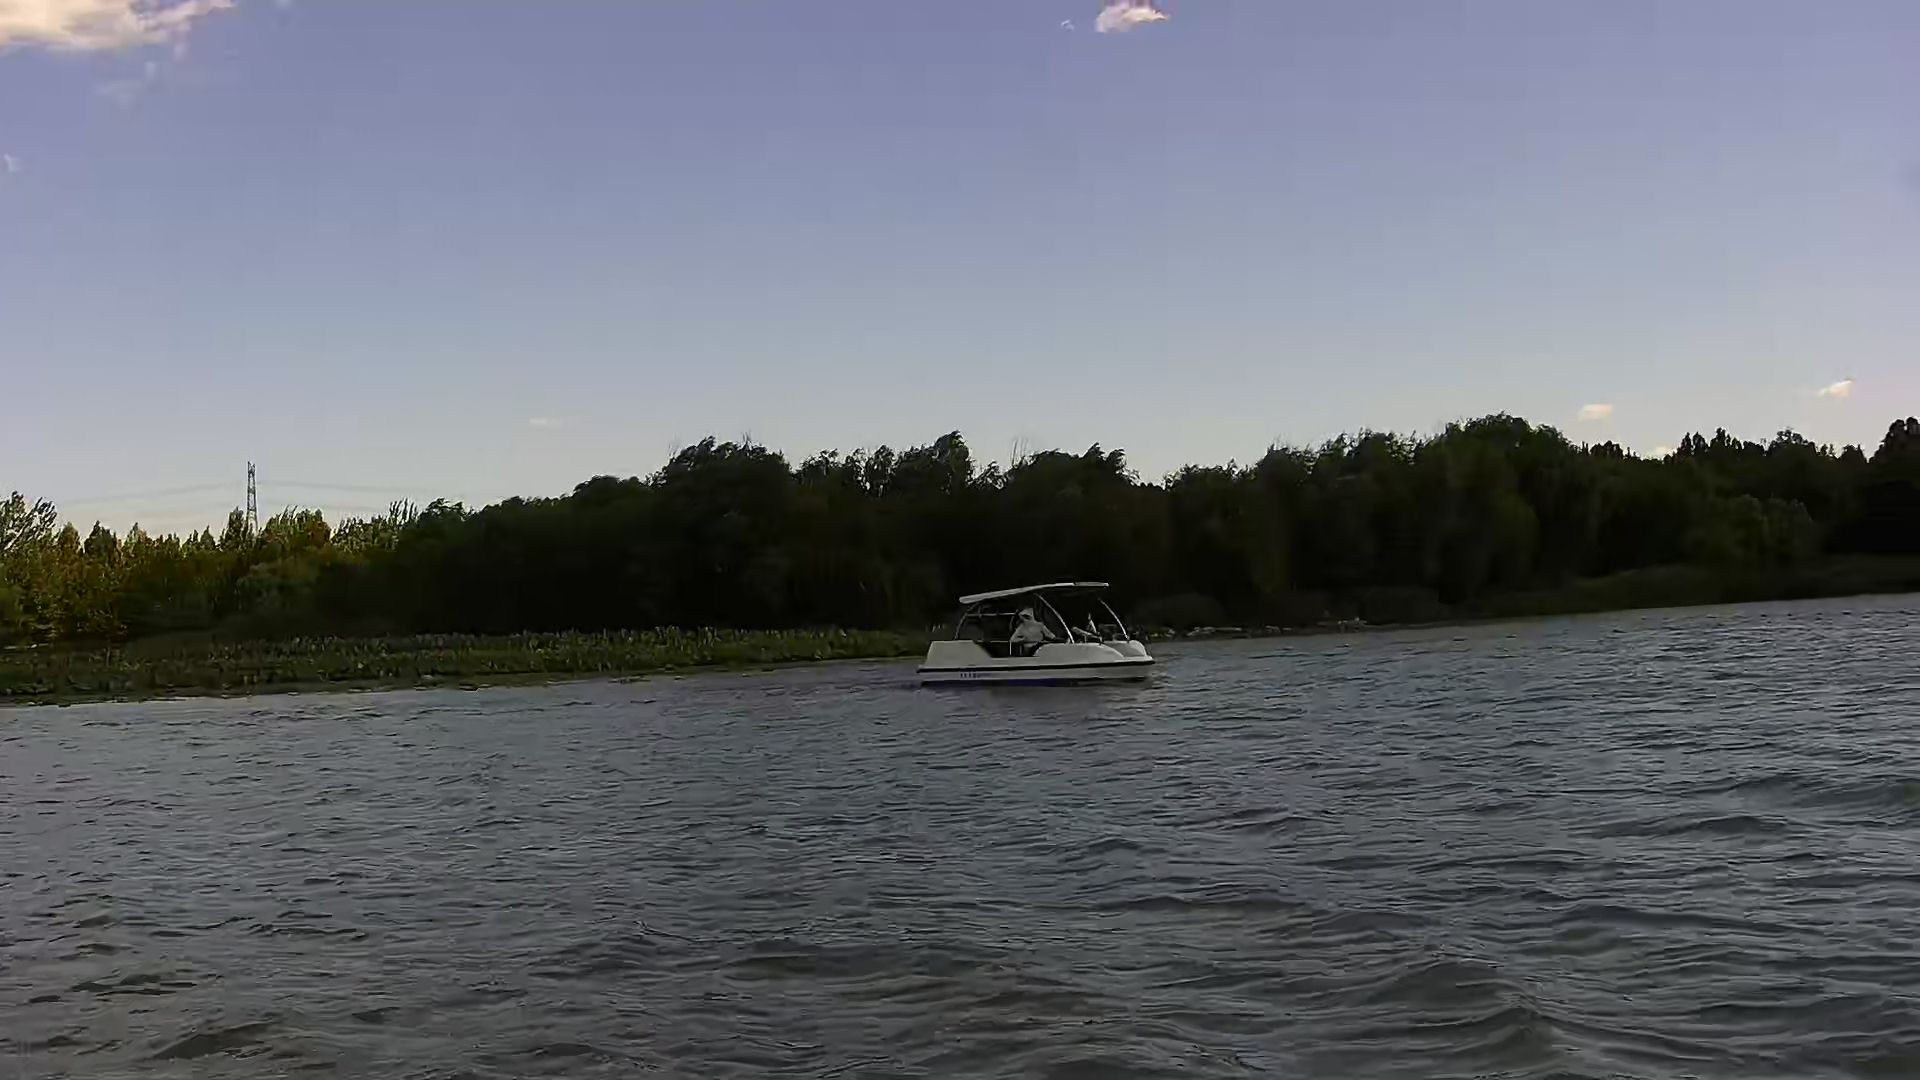boat: (914, 580, 1162, 687)
person: (1009, 604, 1058, 660)
